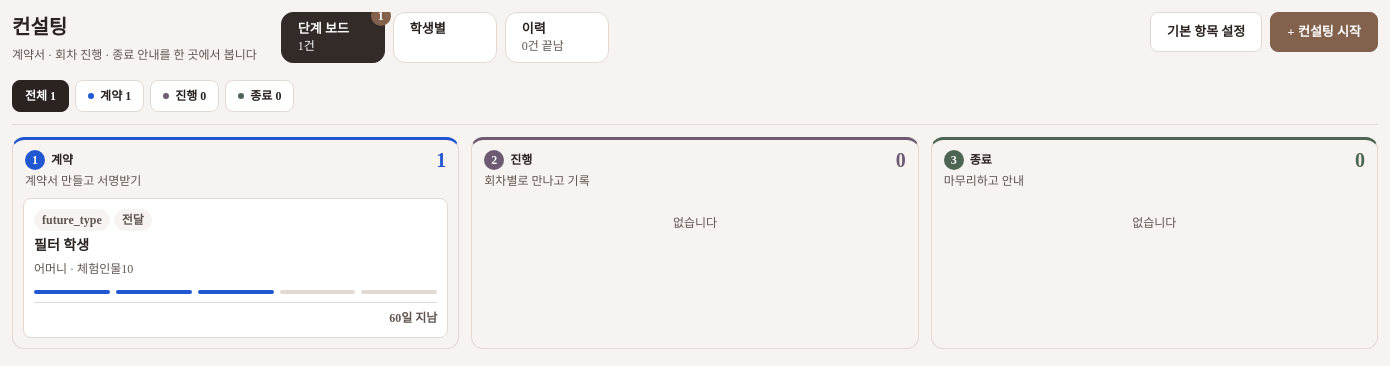
실제 useConsulting 연결 › 네 필터 왕복이 기존 사용자별 캐시 하나를 소비하고 GET을 추가하지 않는다
Expected: the button "전체 1" is shown, [12,80,69,112]
Click the button "계약 1". click: x=110, y=96
box: [75,80,144,112]
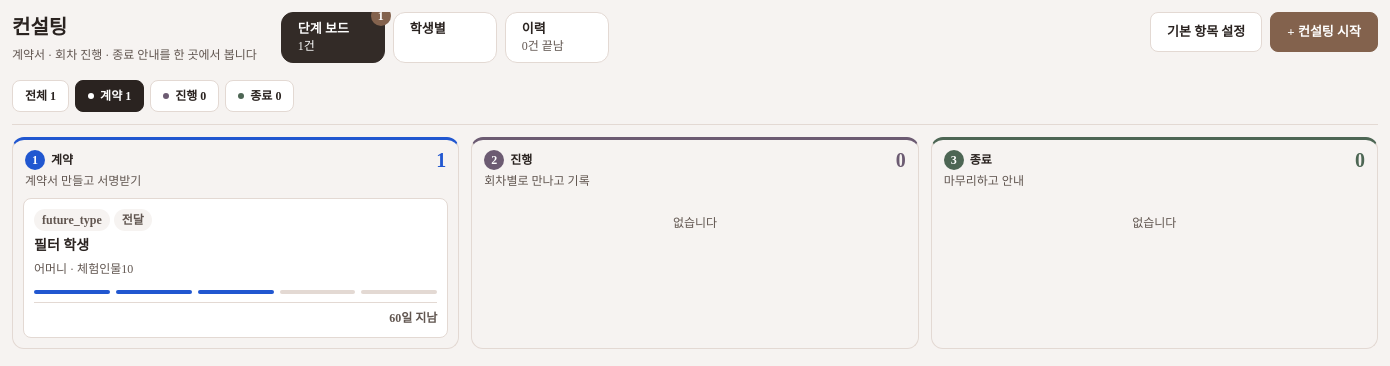
Click the button "진행 0". click: x=185, y=96
box: [150,80,219,112]
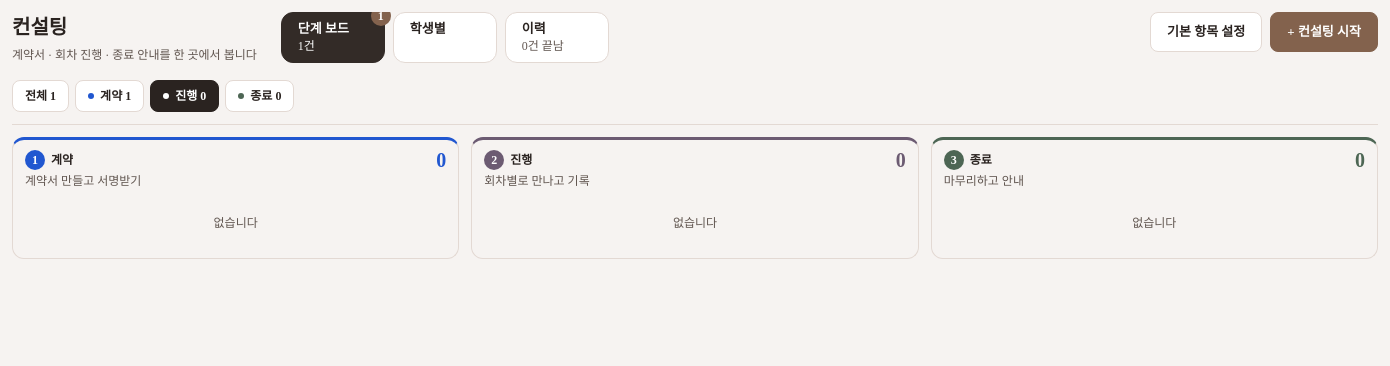
Click the button "종료 0". click: x=260, y=96
box: [225,80,294,112]
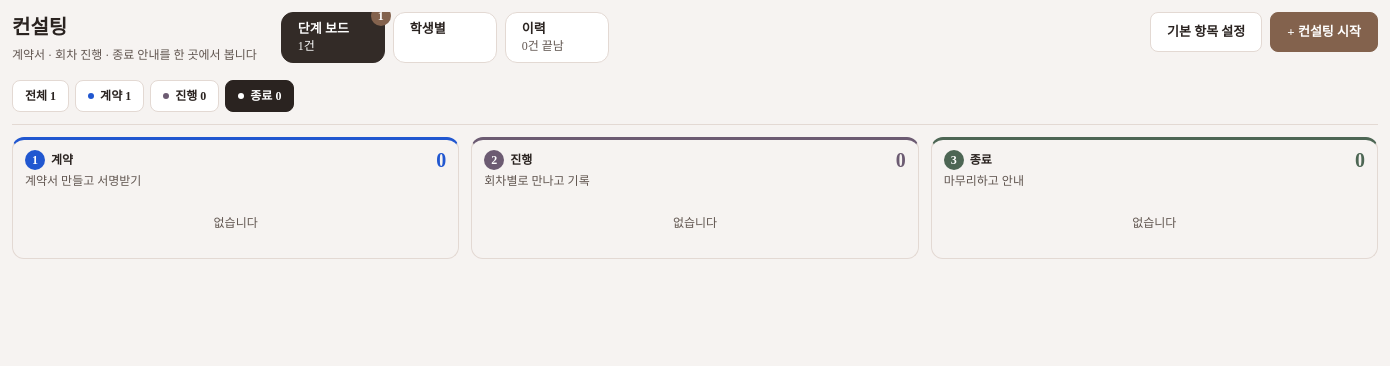
Click the button "전체 1". click: x=41, y=96
box: [12,80,69,112]
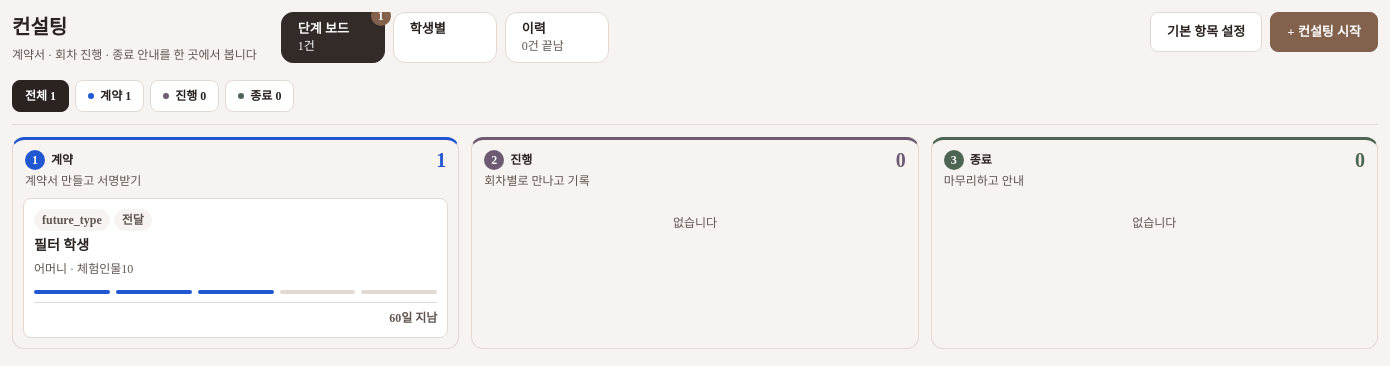
Expected: the button with aria-label "필터 학생 컨설팅 상세" is shown, [34,209,437,327]
